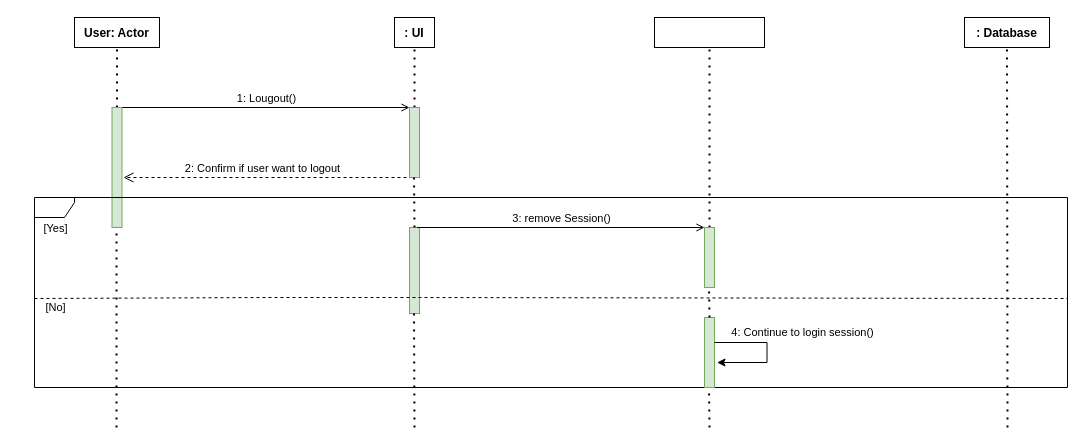
This 1086x447 diagram has some shape labels left out. The shapes that lost their labels are listed below. From the top down, each one's box as (x1, y1, x2, y2) in pixels, then its label:
(654, 16, 764, 48): : System
(34, 196, 1068, 388): opt
